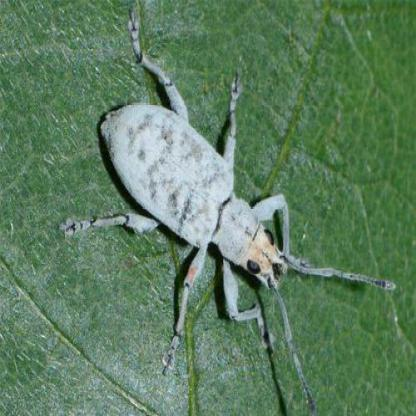ash weevil: (65, 15, 394, 381)
